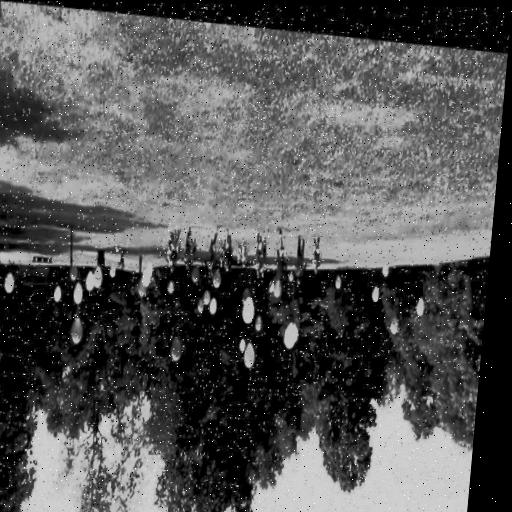balloon: (239, 290, 255, 319), (282, 316, 298, 344), (68, 314, 82, 340), (242, 337, 255, 362), (168, 334, 179, 358), (90, 262, 102, 284), (414, 287, 425, 308), (135, 274, 146, 292), (210, 263, 220, 282), (206, 291, 216, 309), (50, 282, 60, 300), (84, 268, 93, 287), (388, 308, 396, 327), (370, 277, 378, 296), (272, 272, 280, 291), (240, 281, 249, 297), (143, 255, 151, 273), (71, 282, 79, 300), (141, 265, 149, 282), (67, 261, 75, 278), (202, 284, 209, 300), (194, 296, 202, 309), (165, 276, 173, 289), (334, 265, 340, 281), (254, 310, 260, 325), (192, 262, 198, 277), (107, 263, 115, 274), (381, 255, 387, 269), (291, 310, 297, 321), (287, 267, 293, 276), (267, 276, 272, 285), (238, 336, 243, 345)
